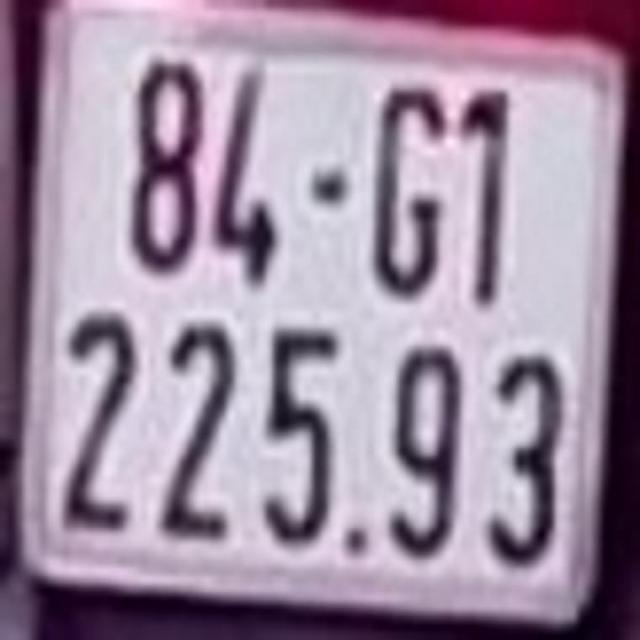1: (460, 85, 510, 312)
2: (65, 314, 130, 536), (164, 323, 228, 543)
3: (496, 353, 561, 576)
4: (220, 62, 278, 292)
5: (262, 316, 340, 546)
8: (130, 61, 197, 278)
9: (388, 344, 459, 556)
G: (376, 83, 444, 303)
